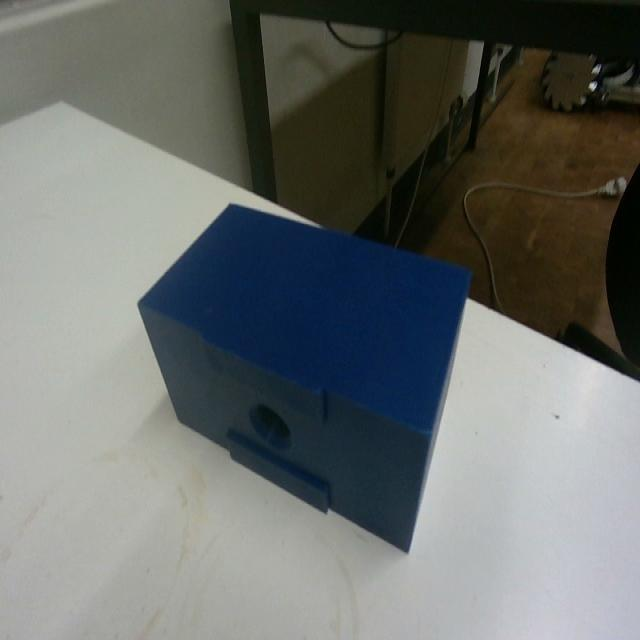Blue Cuboid: (135, 197, 473, 555)
